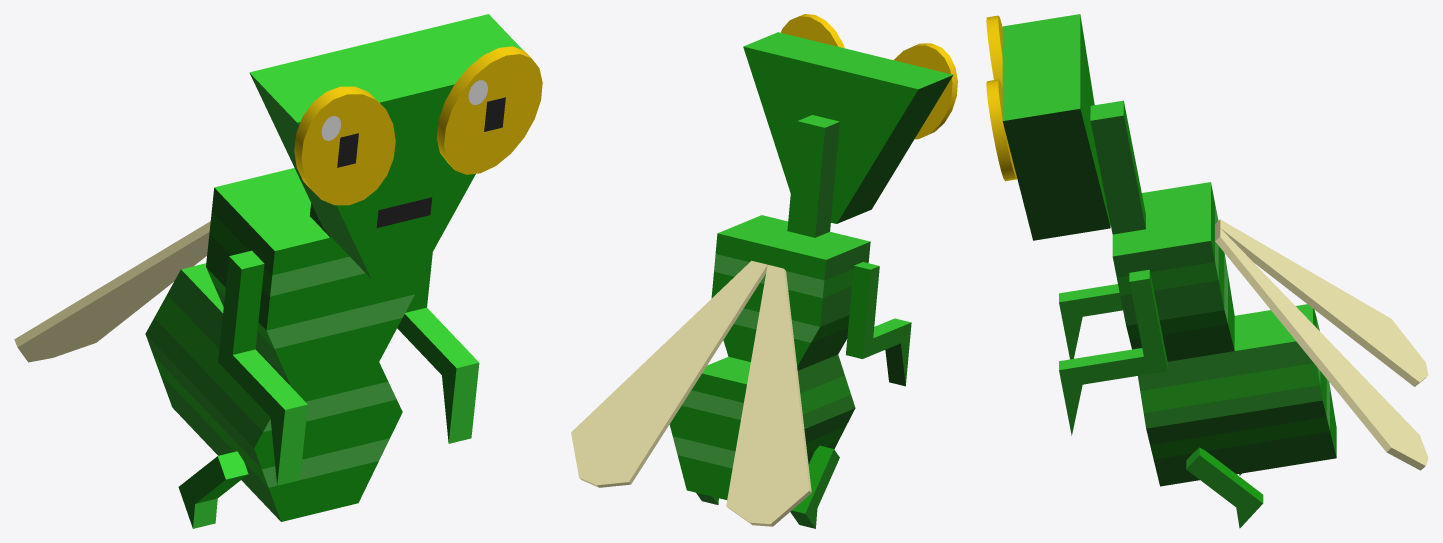
The model's file is Ch_207@Down.FBX.
The picture shows the model from 3 angles, left to right: view 1: azimuth 30°, elevation 25°; view 2: azimuth 150°, elevation 25°; view 3: azimuth 270°, elevation 25°; orthographic projection. The views are drawn at different scales.
Parts seen in each view (by area): view 1: Ch_207_Head, Ch_207, Ch_207_Chest, Ch_207_Arm_L, Ch_207_Wing_R, Ch_207_Arm_R, Ch_207_Leg_L, Ch_207_Eye_01; view 2: Ch_207_Head, Ch_207_Wing_L, Ch_207_Wing_R, Ch_207_Chest, Ch_207, Ch_207_Arm_L, Ch_207_Leg_L; view 3: Ch_207_Head, Ch_207, Ch_207_Chest, Ch_207_Wing_L, Ch_207_Wing_R, Ch_207_Arm_R, Ch_207_Leg_R, Ch_207_Arm_L.
Part boxes in pixels (left/top/right/bottom): Ch_207_Head: left=249, top=14, right=542, bottom=279; Ch_207: left=145, top=263, right=402, bottom=521; Ch_207_Chest: left=206, top=168, right=417, bottom=383; Ch_207_Arm_L: left=218, top=250, right=307, bottom=485; Ch_207_Wing_R: left=14, top=221, right=210, bottom=362; Ch_207_Arm_R: left=397, top=252, right=479, bottom=443; Ch_207_Leg_L: left=178, top=451, right=248, bottom=528; Ch_207_Eye_01: left=337, top=97, right=505, bottom=167; Ch_207_Head: left=743, top=14, right=957, bottom=237; Ch_207_Wing_L: left=571, top=260, right=767, bottom=487; Ch_207_Wing_R: left=726, top=265, right=811, bottom=526; Ch_207_Chest: left=711, top=215, right=870, bottom=370; Ch_207: left=669, top=354, right=855, bottom=499; Ch_207_Arm_L: left=846, top=262, right=911, bottom=386; Ch_207_Leg_L: left=790, top=445, right=839, bottom=528; Ch_207_Head: left=986, top=14, right=1145, bottom=240; Ch_207: left=1138, top=304, right=1336, bottom=486; Ch_207_Chest: left=1112, top=182, right=1234, bottom=361; Ch_207_Wing_L: left=1215, top=228, right=1428, bottom=470; Ch_207_Wing_R: left=1215, top=219, right=1428, bottom=386; Ch_207_Arm_R: left=1059, top=269, right=1167, bottom=435; Ch_207_Leg_R: left=1186, top=447, right=1263, bottom=528; Ch_207_Arm_L: left=1059, top=284, right=1122, bottom=359.
Bounding box in the file's own units: 6.02 × 9.74 × 8.73.
